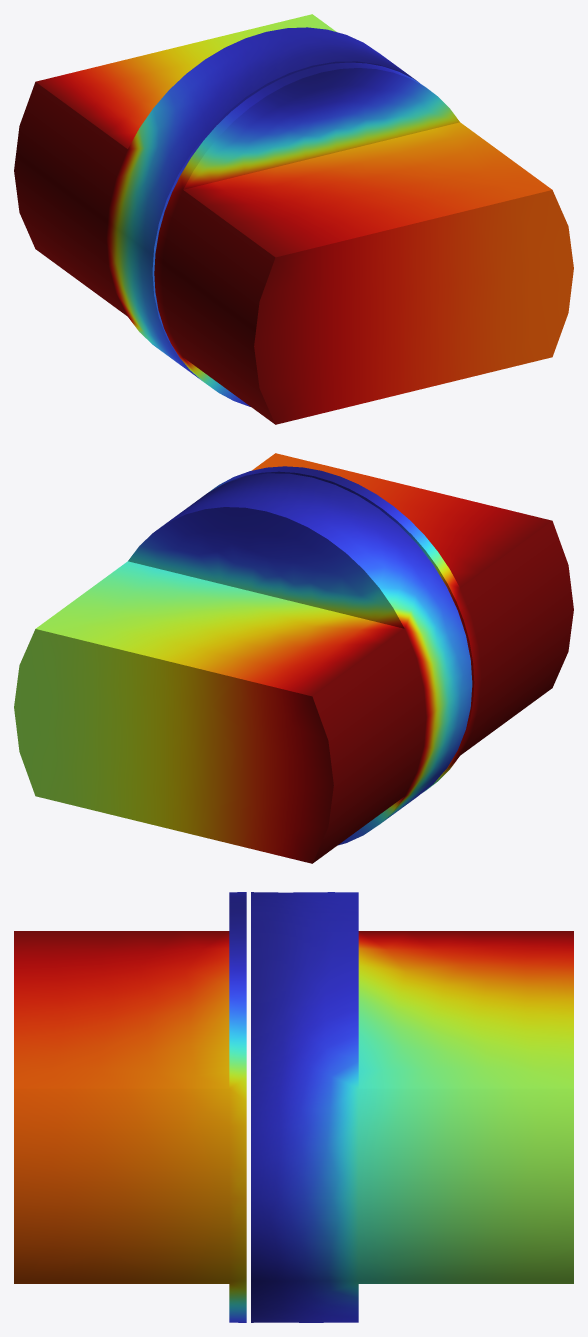
File: PilaH2-O2_mh2-1.38_V-0.7.glb
3 renders of one model, top to bottom at view 1: azimuth 30°, elevation 25°; view 2: azimuth 150°, elevation 25°; view 3: azimuth 270°, elevation 25°, orthographic. The views are drawn at different scales.
Bounding box in the file's own units: 0.001 × 0.001 × 0.0013.
Materials: 2 (2 with a texture image).
